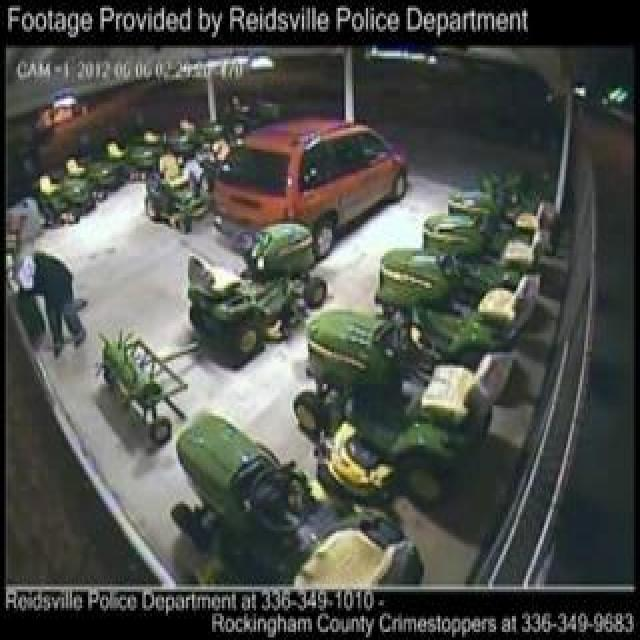thief: (32, 221, 74, 356)
